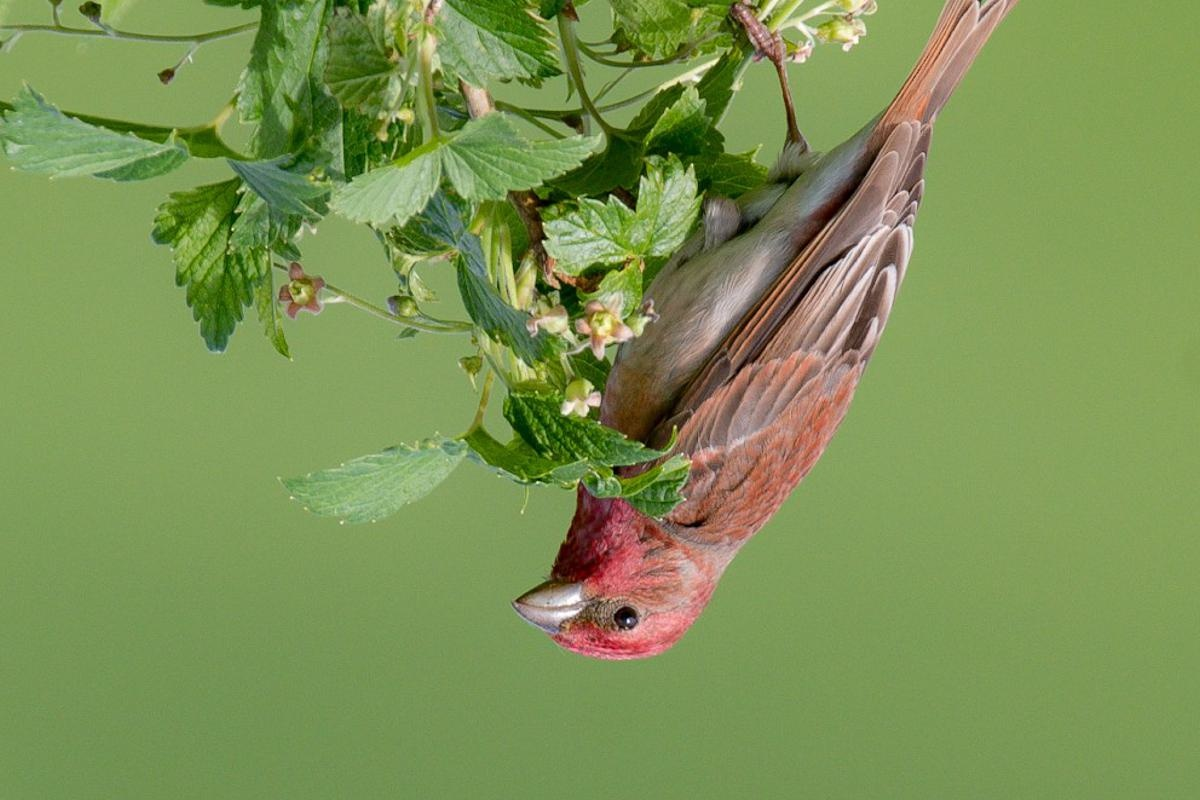rosefinch: (494, 50, 951, 678)
